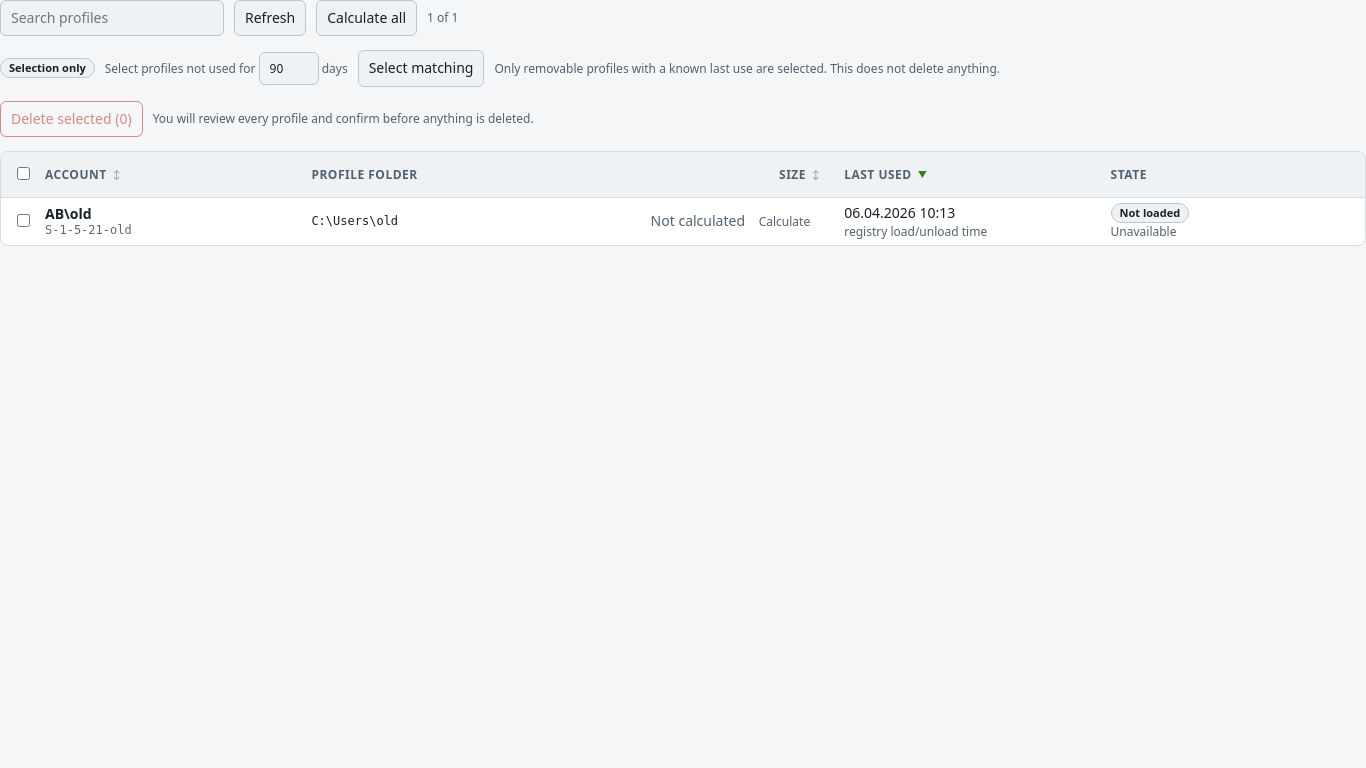
Profiles tab › shows a server error from delete-batch as plain text
This screenshot has width=1366, height=768.
Click the checkbox named "Select AB\\old".
click(24, 220)  # box x1=17 y1=214 x2=30 y2=227
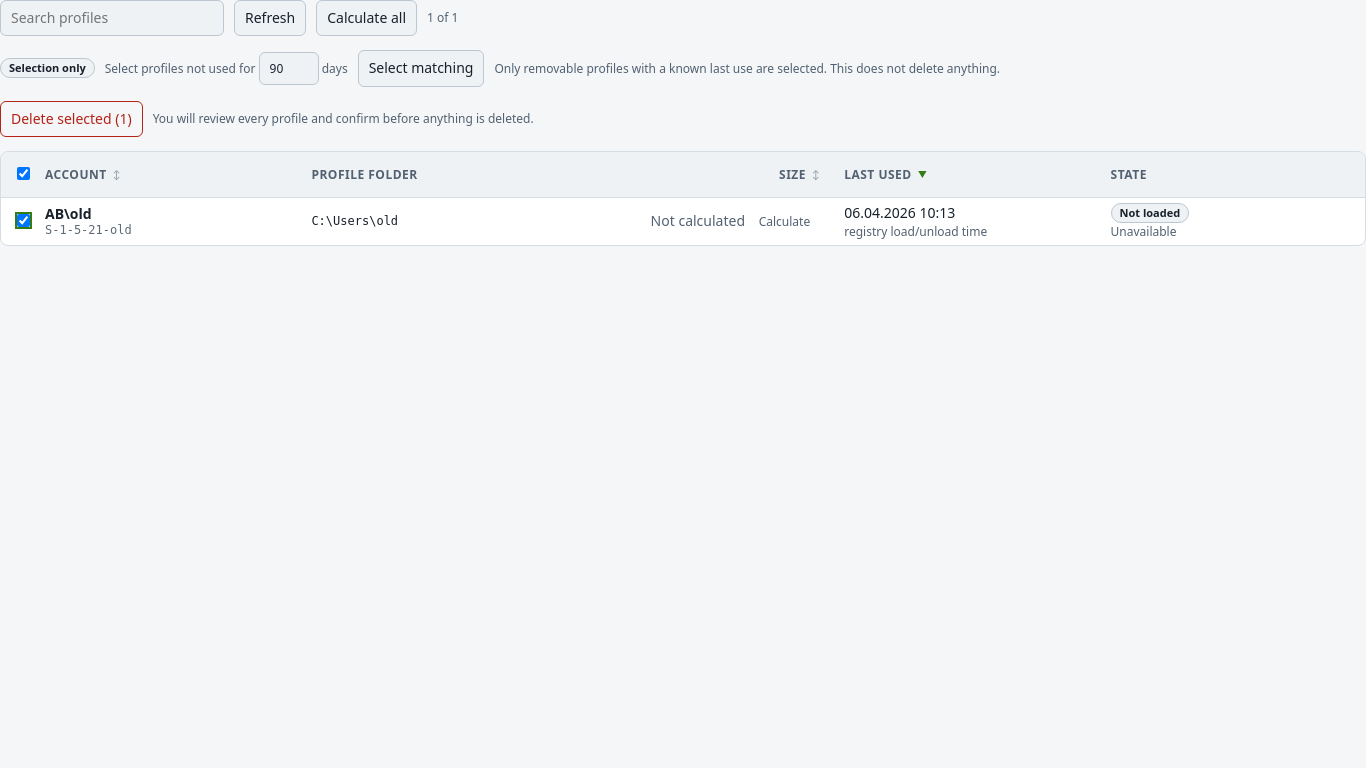
Click the button "Delete selected (1)".
click(71, 119)  # box x1=0 y1=101 x2=143 y2=137
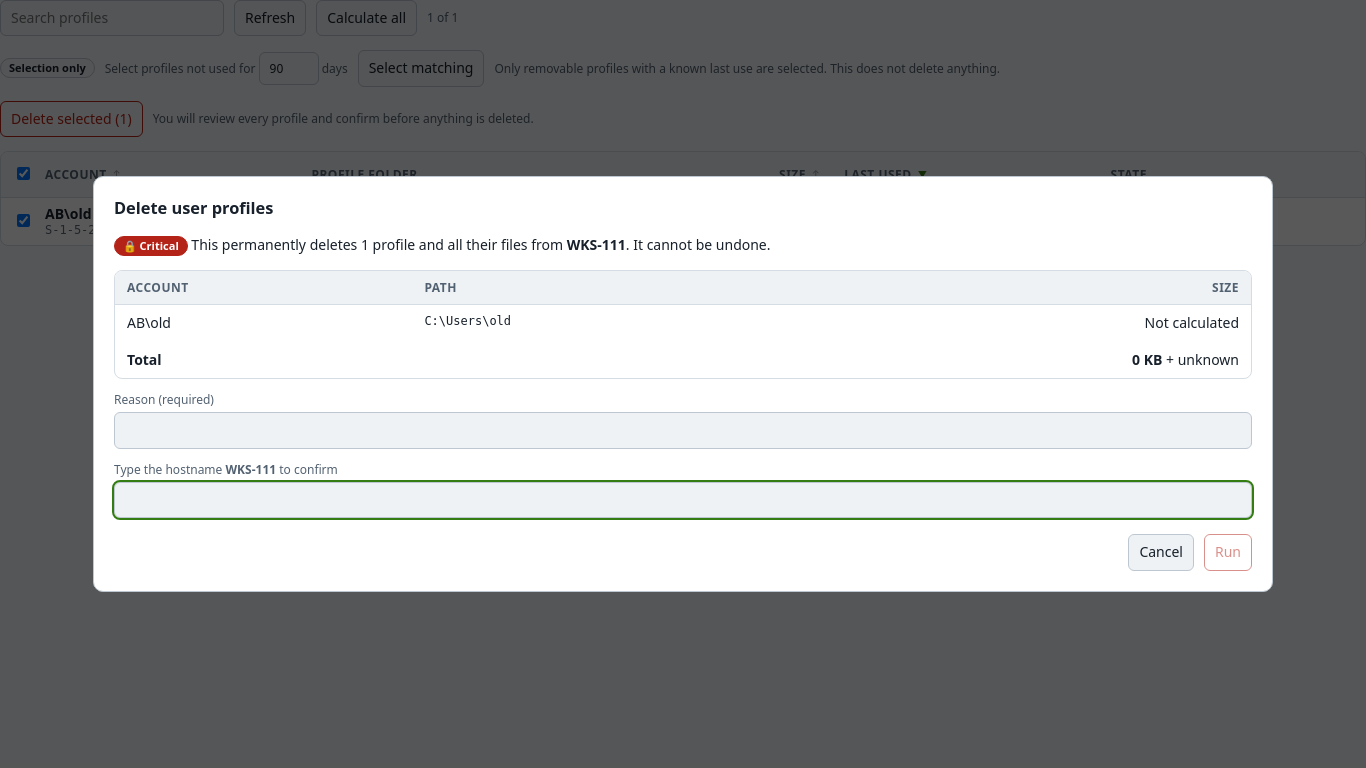
Type "WKS-111" into the field labelled "Type the hostname WKS-111 to confirm".
click(683, 500); type("WKS-111")  # box x1=114 y1=482 x2=1252 y2=518
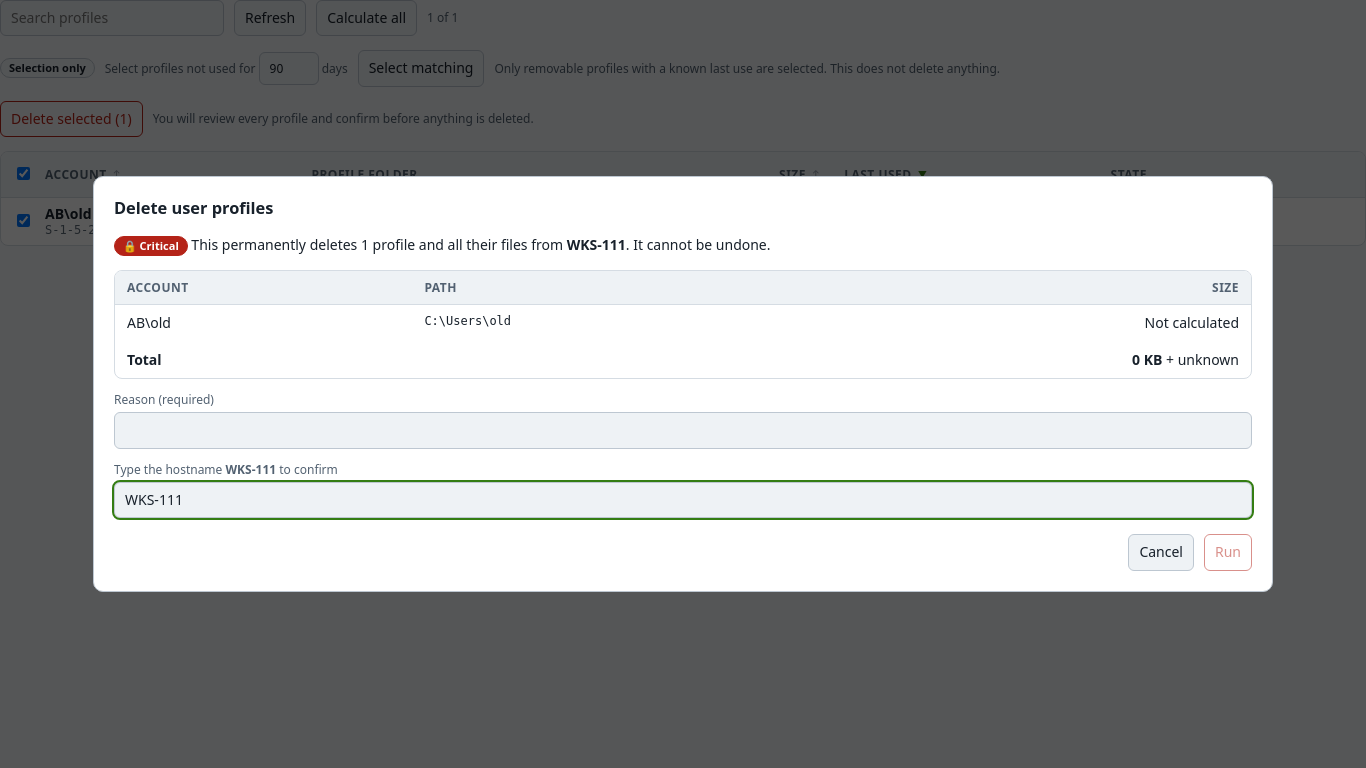
Type "r" into the field labelled "Reason (required)".
click(683, 431); type("r")  # box x1=114 y1=412 x2=1252 y2=449
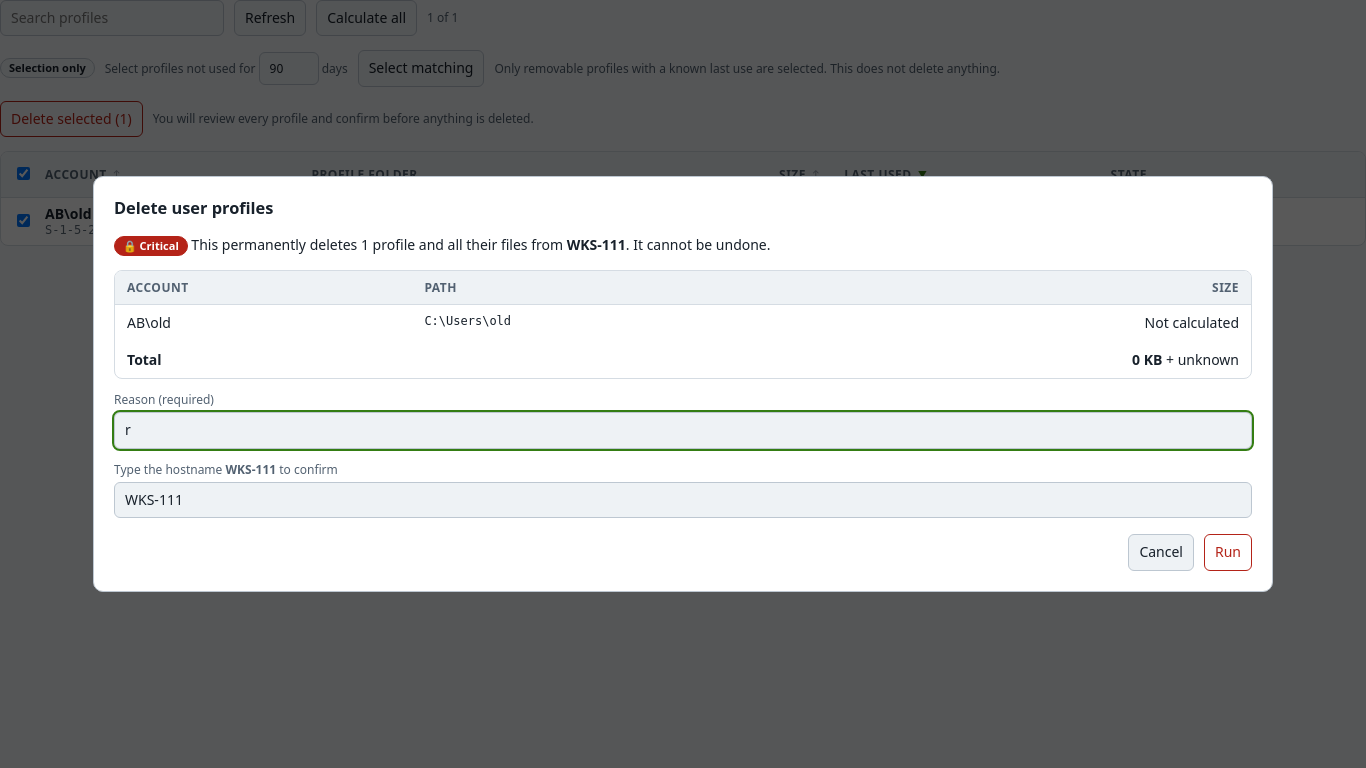
Click the button "Run".
click(1228, 553)  # box x1=1204 y1=534 x2=1252 y2=571
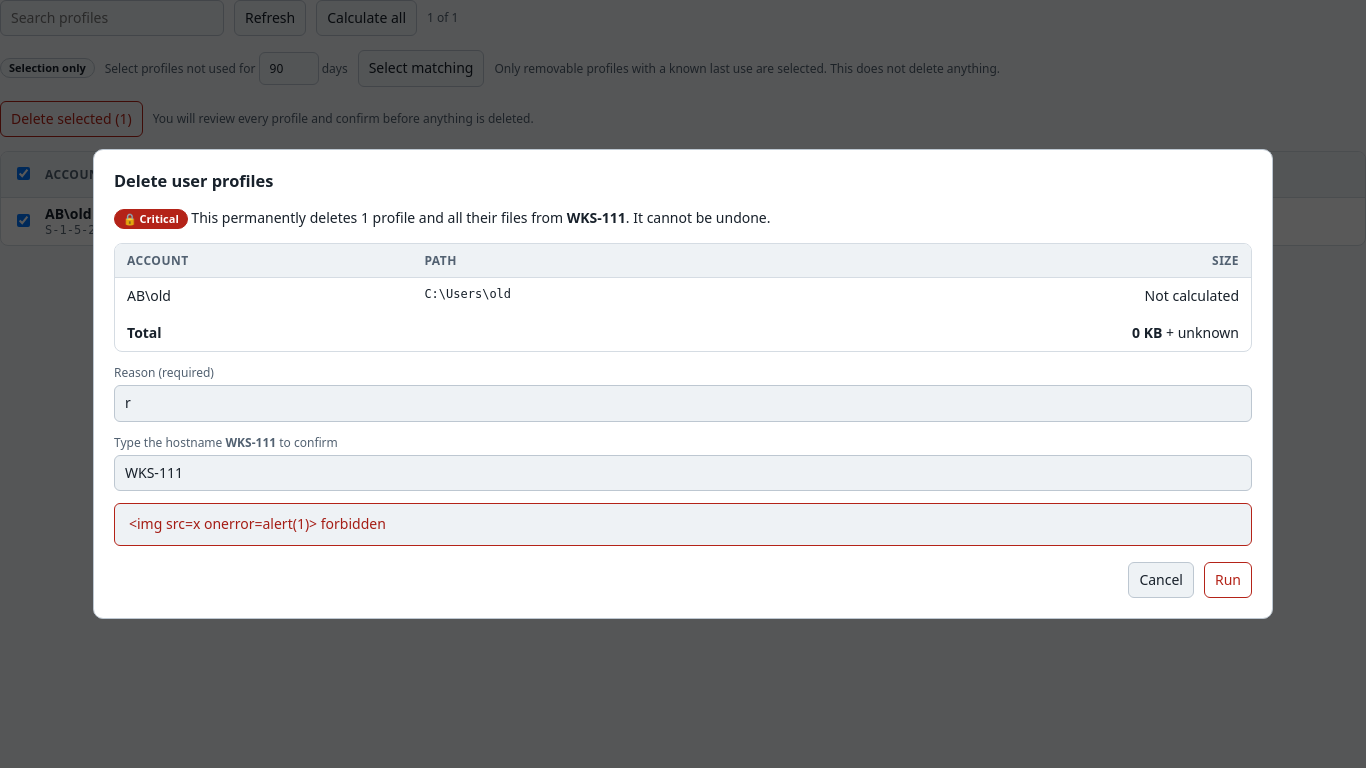
Now the message reads "<img src=x onerror=alert(1)> forbidden", box x1=129 y1=514 x2=386 y2=533
